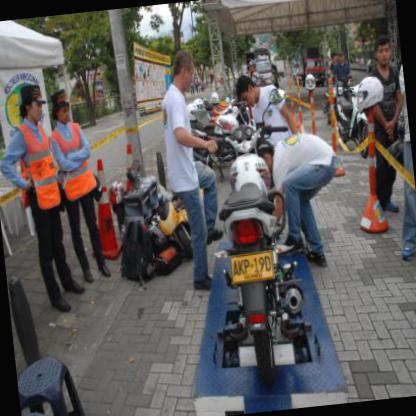motorcycle: (192, 85, 318, 386), (188, 93, 259, 187), (319, 69, 355, 121)
